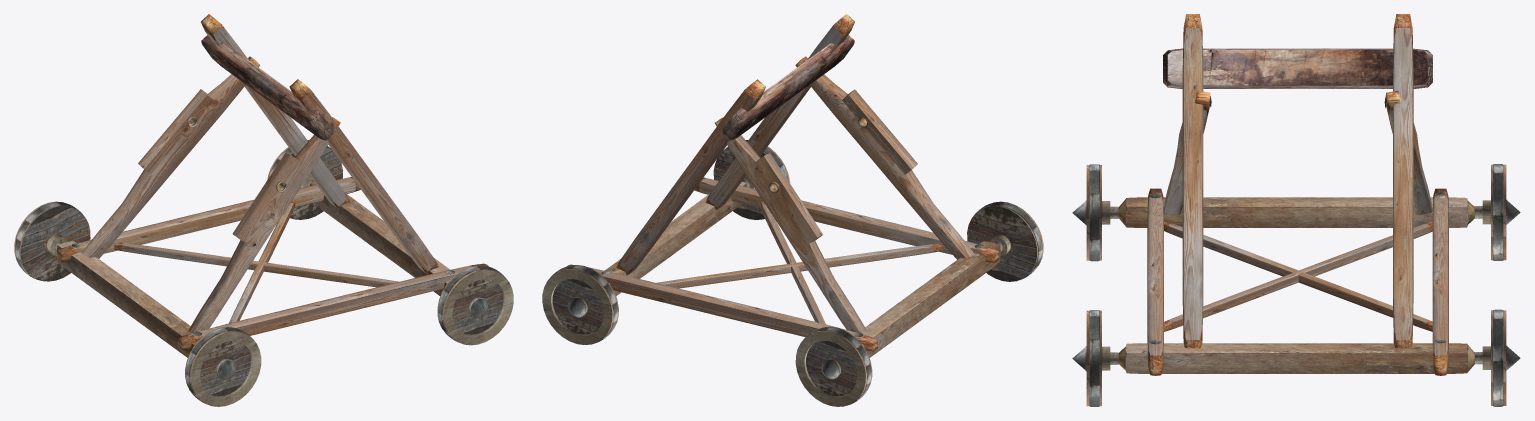
The model's file is catapult_base.obj.
3 views of the same model, side by side, from view 1: azimuth 30°, elevation 25°; view 2: azimuth 150°, elevation 25°; view 3: azimuth 270°, elevation 25° (orthographic). The views are drawn at different scales.
Visible parts, largest first — view 1: q1, q2, wheel3, wheel4, wheel1, wheel2; view 2: q1, q2, wheel2, wheel1, wheel4, wheel3; view 3: q1, q2, wheel3, wheel1, wheel4, wheel2.
Part boxes in pixels (bbox=[...]): q1: bbox=[57, 14, 488, 357]; q2: bbox=[81, 56, 398, 333]; wheel3: bbox=[437, 265, 513, 345]; wheel4: bbox=[185, 327, 261, 406]; wheel1: bbox=[14, 201, 90, 281]; wheel2: bbox=[267, 140, 342, 219]; q1: bbox=[567, 14, 1000, 357]; q2: bbox=[656, 56, 974, 334]; wheel2: bbox=[542, 265, 618, 344]; wheel1: bbox=[795, 326, 872, 406]; wheel4: bbox=[967, 201, 1043, 281]; wheel3: bbox=[713, 140, 790, 219]; q1: bbox=[1118, 14, 1474, 375]; q2: bbox=[1163, 90, 1432, 331]; wheel3: bbox=[1072, 310, 1118, 406]; wheel1: bbox=[1474, 164, 1520, 260]; wheel4: bbox=[1072, 164, 1118, 261]; wheel2: bbox=[1474, 309, 1520, 406].
Size of the model in its own units: 234 by 180 by 234.
